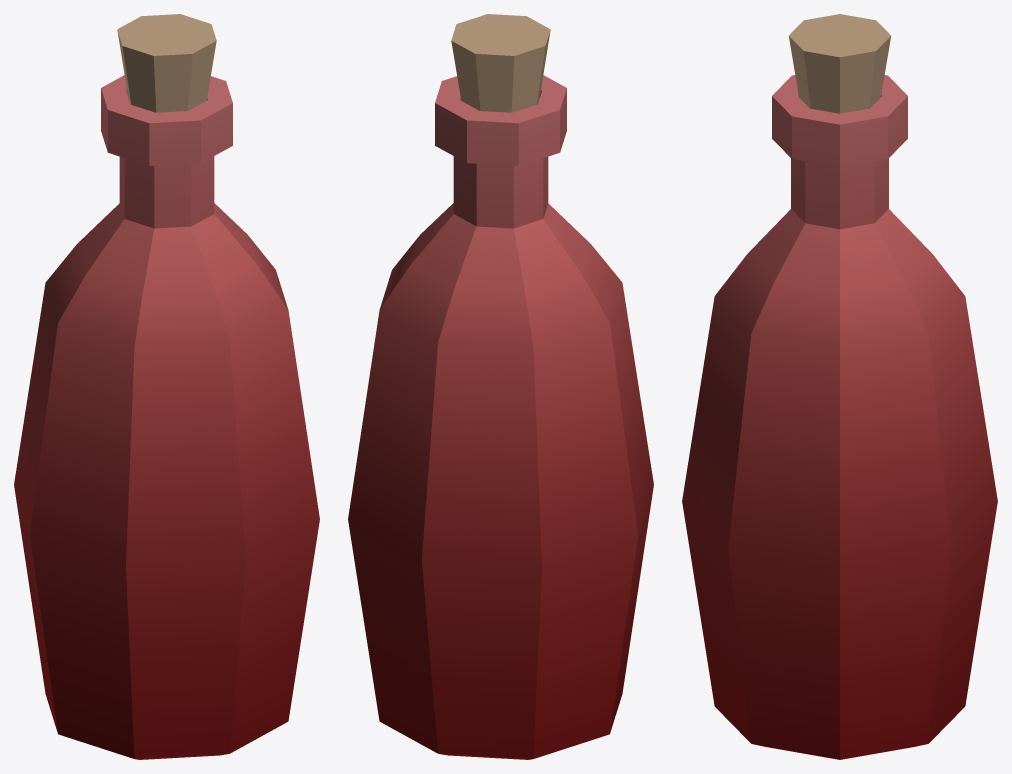
File: Bottle_14.fbx
3 views of the same model, side by side, from view 1: azimuth 30°, elevation 25°; view 2: azimuth 150°, elevation 25°; view 3: azimuth 270°, elevation 25° (orthographic).
Parts seen in each view (by area): view 1: Bottle_14_LOD0; view 2: Bottle_14_LOD0; view 3: Bottle_14_LOD0.
Boxes of the visible parts, x1=… form: Bottle_14_LOD0: x1=14, y1=14, x2=319, y2=759; Bottle_14_LOD0: x1=348, y1=14, x2=653, y2=759; Bottle_14_LOD0: x1=682, y1=14, x2=997, y2=759.
Size of what is drawn, in the model's own units: 0.1042 by 0.2476 by 0.1042.
